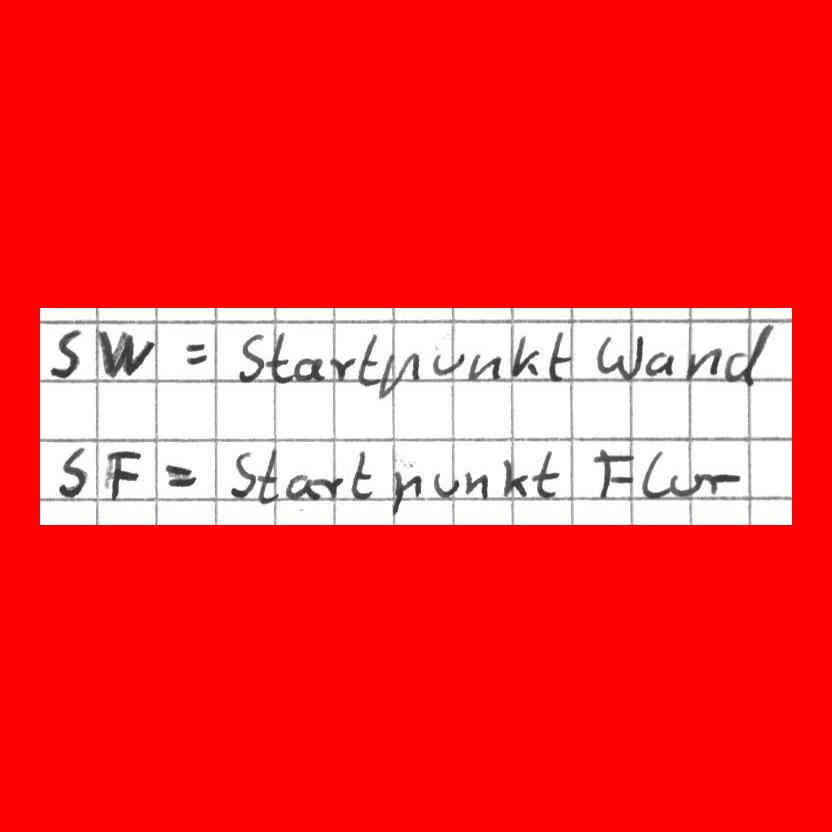Char: (723, 322, 774, 385), (94, 327, 154, 378), (101, 446, 143, 504), (379, 348, 421, 402), (47, 323, 84, 382), (595, 333, 641, 378), (593, 449, 634, 499), (387, 469, 423, 522), (54, 446, 91, 497), (547, 328, 575, 384), (252, 448, 279, 506), (227, 449, 257, 501), (237, 330, 266, 383), (499, 454, 532, 500), (640, 450, 670, 500), (509, 333, 540, 381), (534, 447, 560, 500), (349, 448, 374, 501), (683, 347, 721, 381), (268, 331, 291, 384), (162, 460, 198, 489), (431, 351, 467, 379), (704, 468, 741, 495), (468, 352, 501, 382), (358, 335, 379, 382), (285, 472, 314, 503), (670, 471, 702, 499), (293, 356, 324, 384), (645, 348, 674, 377), (462, 468, 487, 501), (181, 340, 208, 367), (327, 355, 353, 383), (432, 472, 459, 497), (319, 474, 344, 499)
